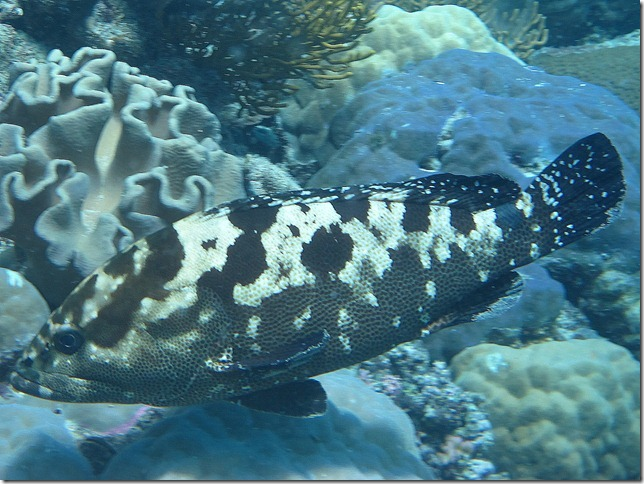fish: (9, 131, 628, 419)
